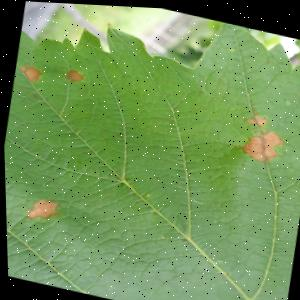Folha: (0, 0, 300, 300)
Fungo: (237, 123, 285, 164), (23, 195, 59, 224), (16, 63, 43, 85), (241, 109, 269, 126), (60, 66, 84, 84), (142, 191, 149, 196)
